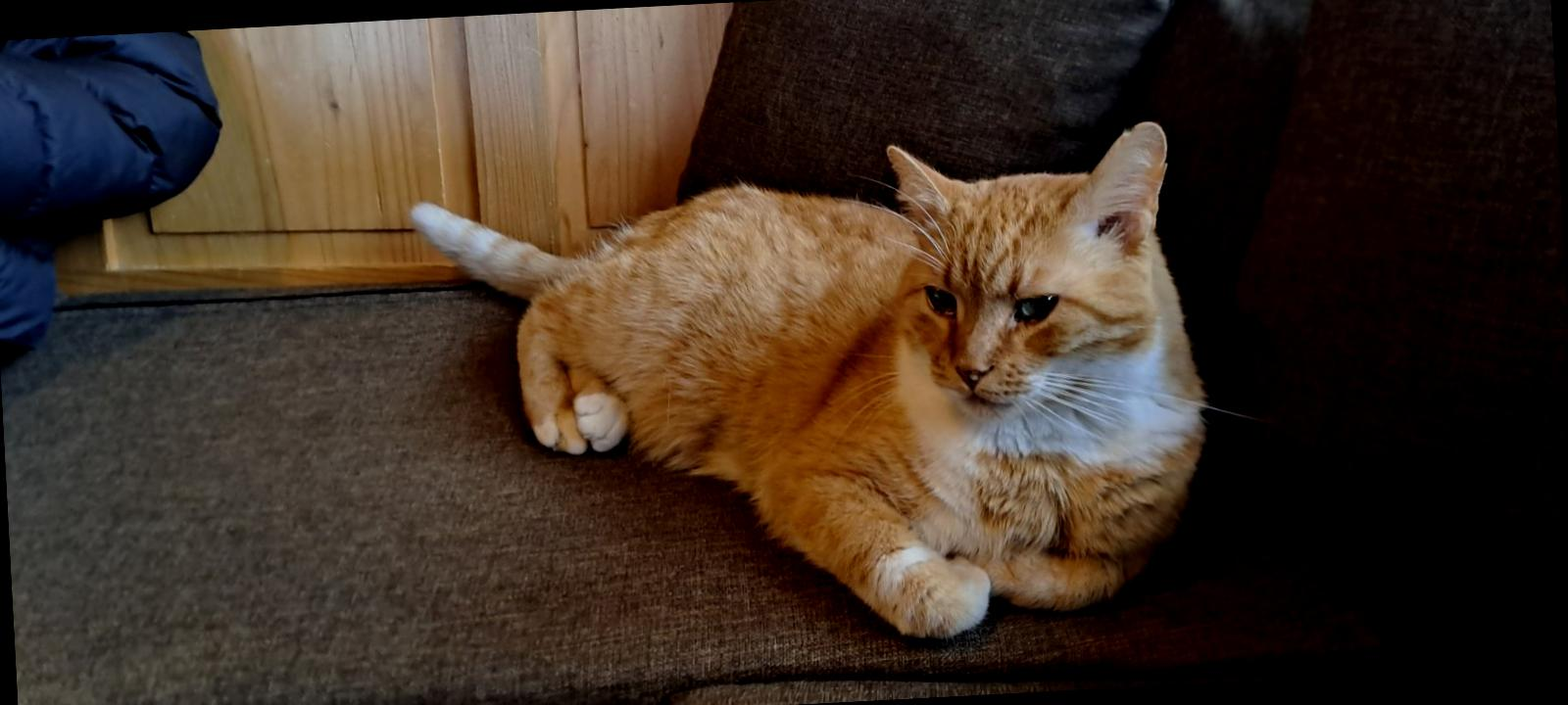macka: (404, 115, 1217, 664)
